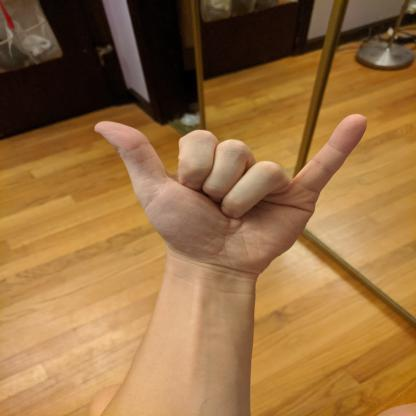Y: (90, 110, 373, 278)
